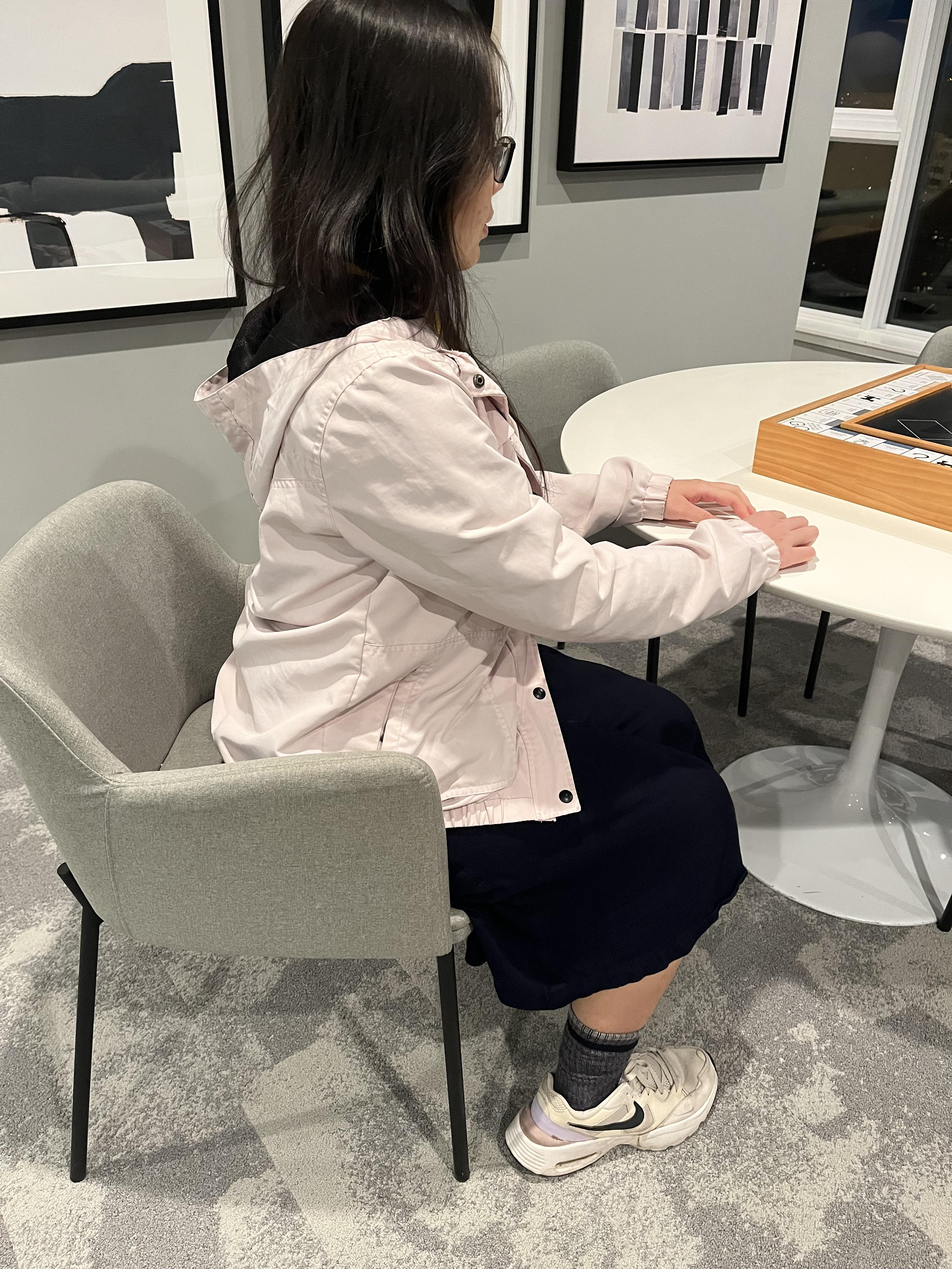GoodPosture: (189, 0, 819, 1180)
